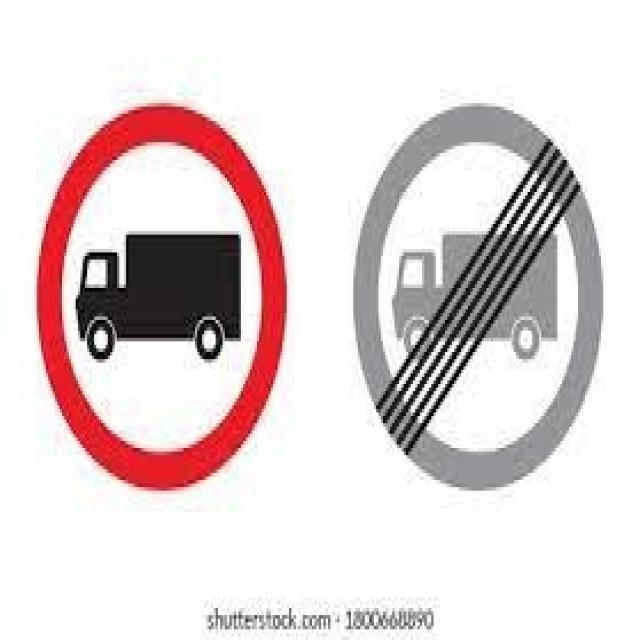do_not_enter: (27, 85, 297, 500)
